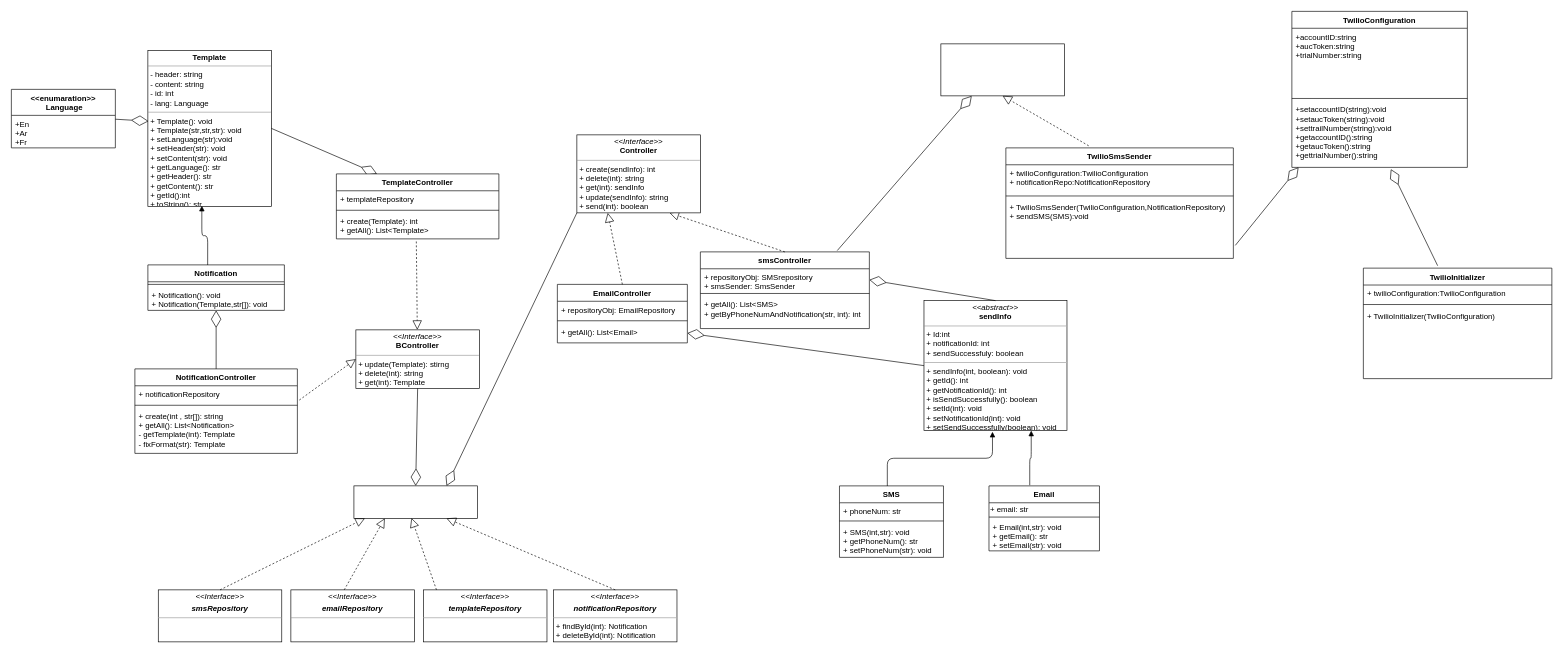
This 1563x653 diagram has some shape labels left out. Here are the shapes that lost their labels. From the top down, the centre of each, then its label:
point 1002,69: <<Interface>> SmsSender + sendSMS(SMS):void
point 415,501: <<Interface>> jpaRepository
